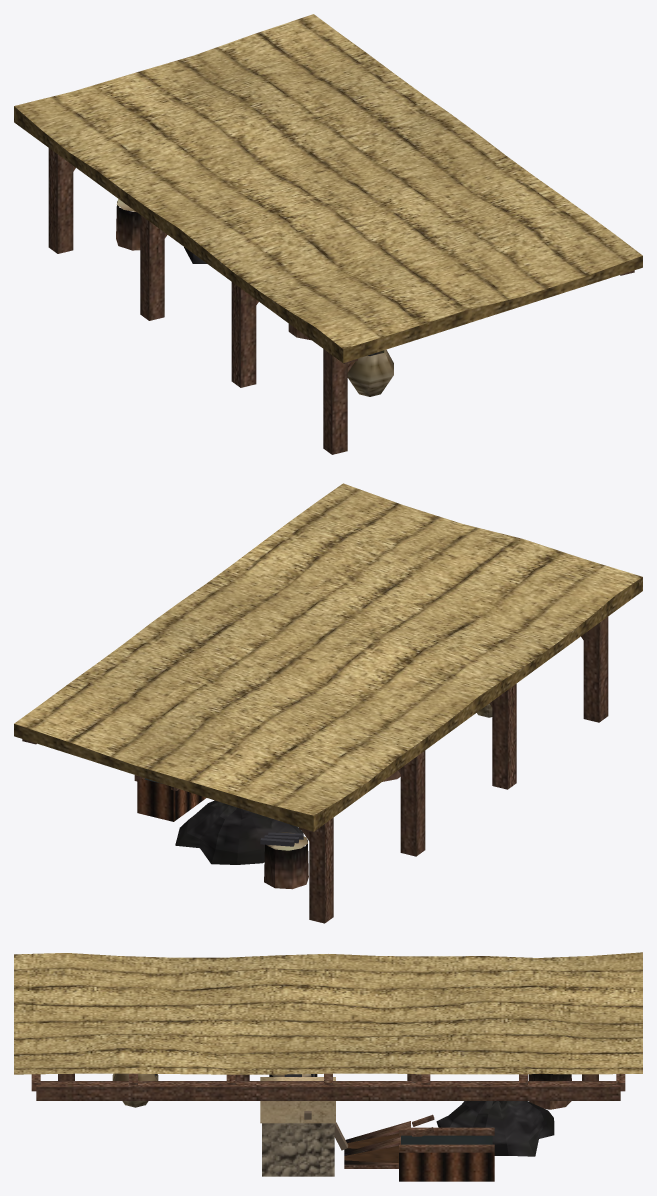
The model's file is pristresek-kovar.glb.
The picture shows the model from 3 angles, top to bottom: view 1: azimuth 30°, elevation 25°; view 2: azimuth 150°, elevation 25°; view 3: azimuth 270°, elevation 25°; orthographic projection. The views are drawn at different scales.
Visible parts, largest first — view 1: pristresek-kovar; view 2: pristresek-kovar; view 3: pristresek-kovar.
Boxes of the visible parts, box(x1,y1,x2,y2) form: pristresek-kovar: box(14, 14, 642, 454); pristresek-kovar: box(14, 483, 642, 923); pristresek-kovar: box(14, 952, 642, 1181).
Bounding box in the file's own units: 3.31 × 1.54 × 6.24.
1 material, 1 textured.
